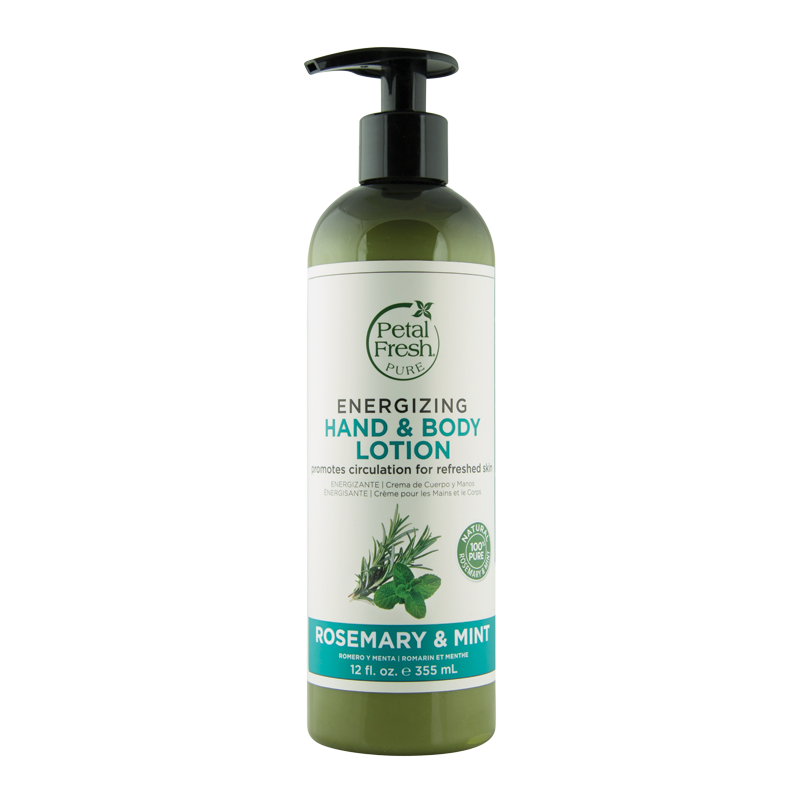Nonrec_Plastic: (275, 31, 518, 753)
